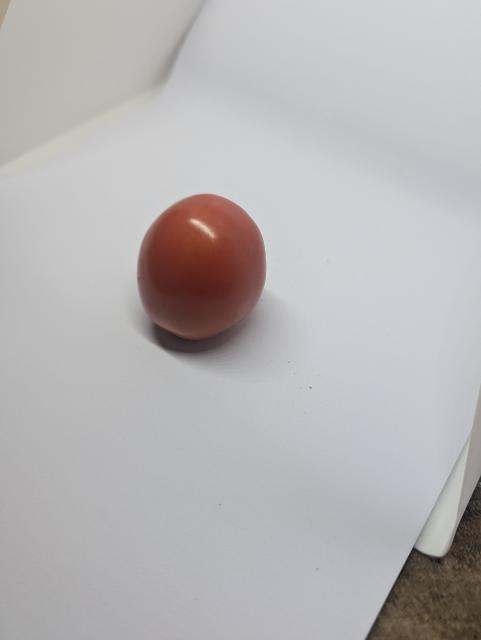red: (121, 189, 295, 357)
